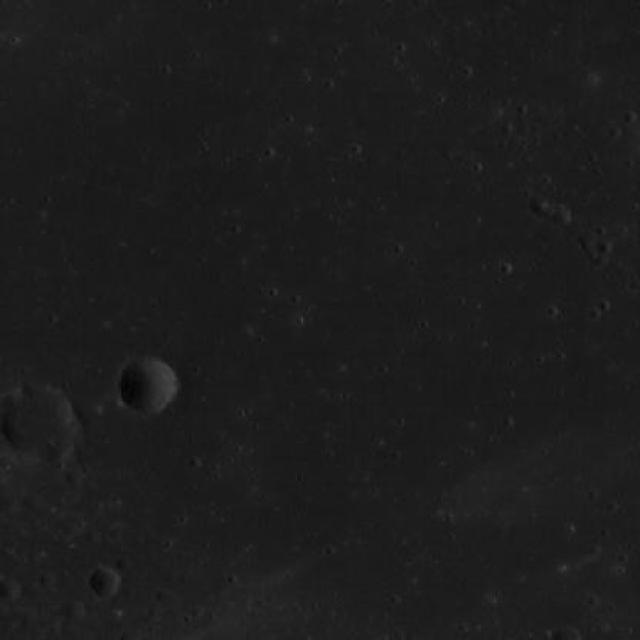crater: (0, 383, 75, 458), (120, 358, 182, 417), (91, 570, 122, 601), (60, 603, 88, 632), (131, 516, 157, 542), (552, 210, 574, 230), (0, 578, 20, 600), (62, 466, 82, 486), (19, 490, 38, 510), (158, 590, 175, 608), (110, 528, 127, 544), (582, 240, 598, 254)
